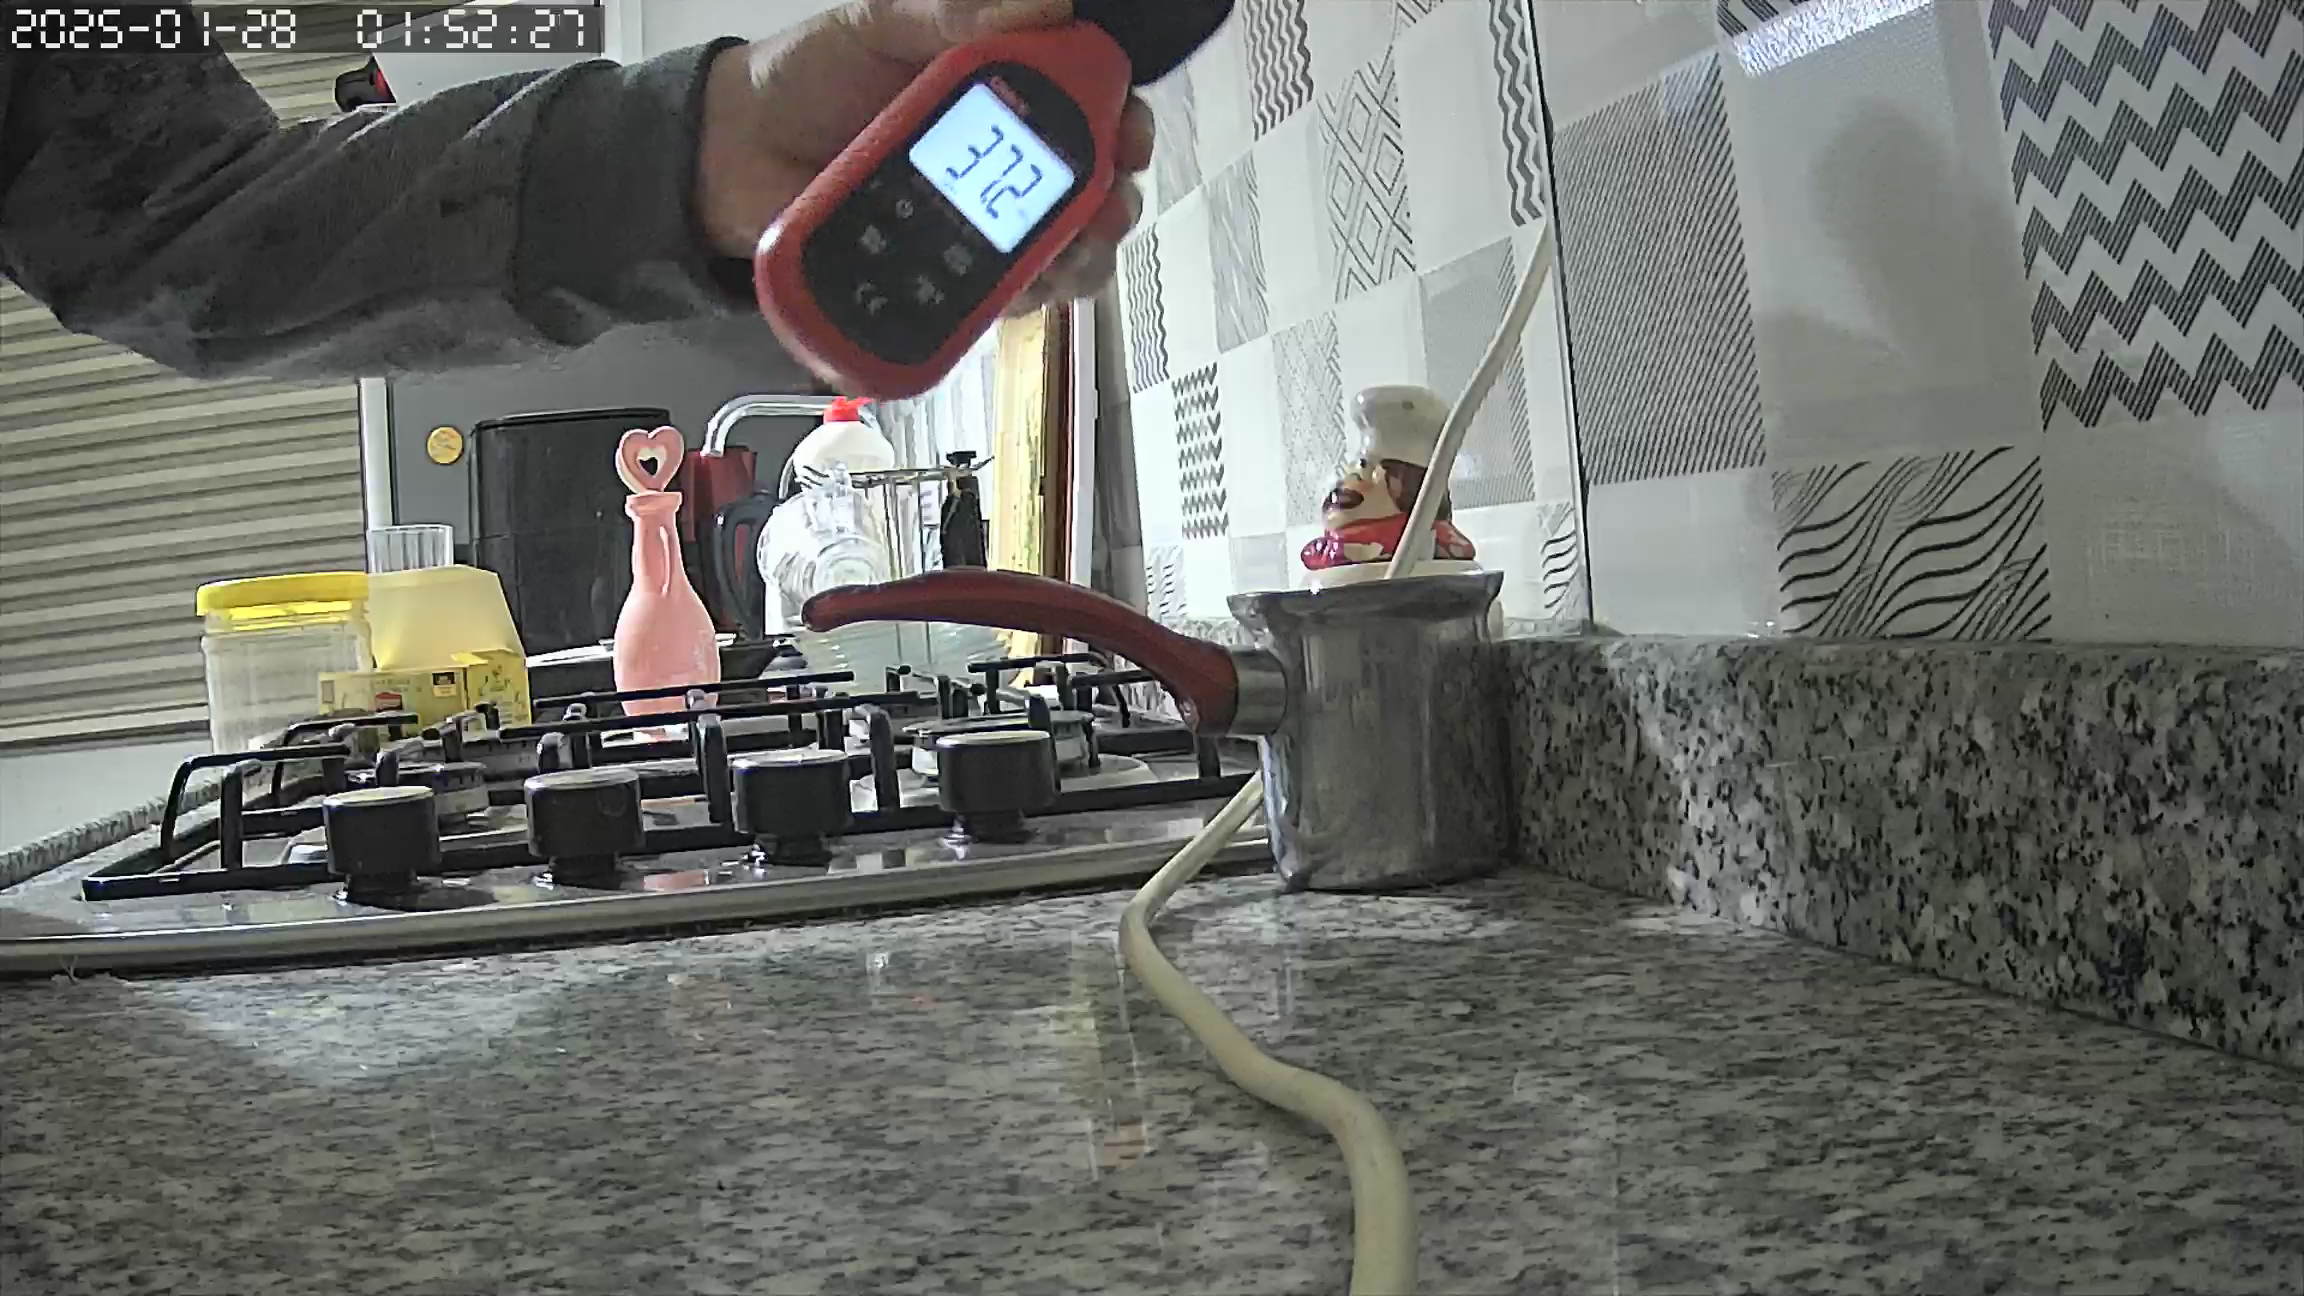screen: (905, 78, 1074, 256)
